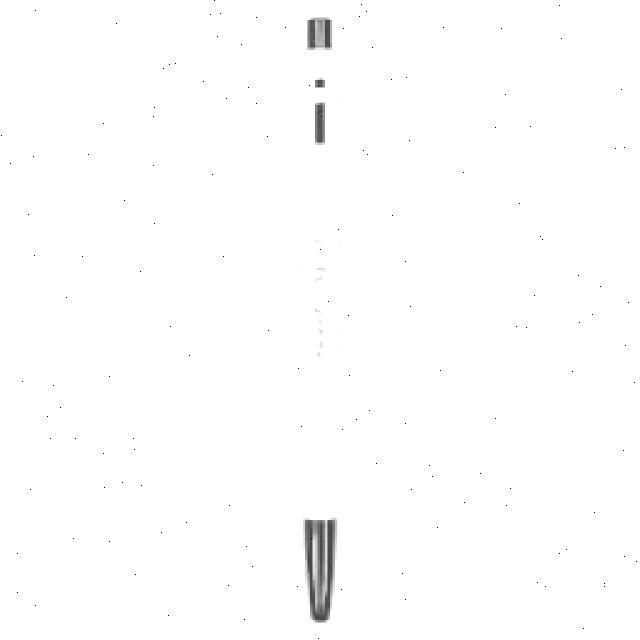pen: (295, 15, 348, 623)
